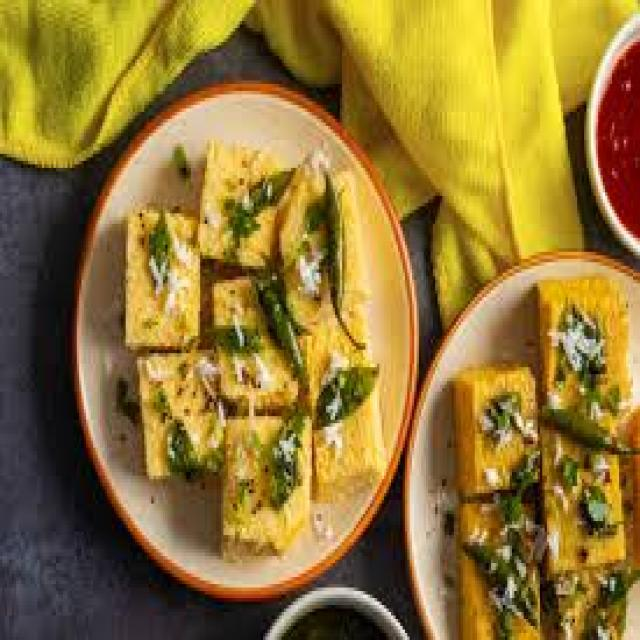DHOKLA: (536, 268, 634, 428), (305, 311, 385, 505), (282, 150, 369, 327), (223, 414, 313, 559), (457, 355, 537, 511), (190, 137, 281, 274), (214, 265, 301, 398), (125, 210, 208, 349), (458, 497, 540, 637), (544, 436, 623, 577), (136, 349, 221, 480), (560, 572, 636, 637)
